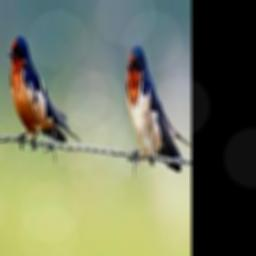Swallow: (6, 34, 80, 147), (125, 45, 190, 171)
